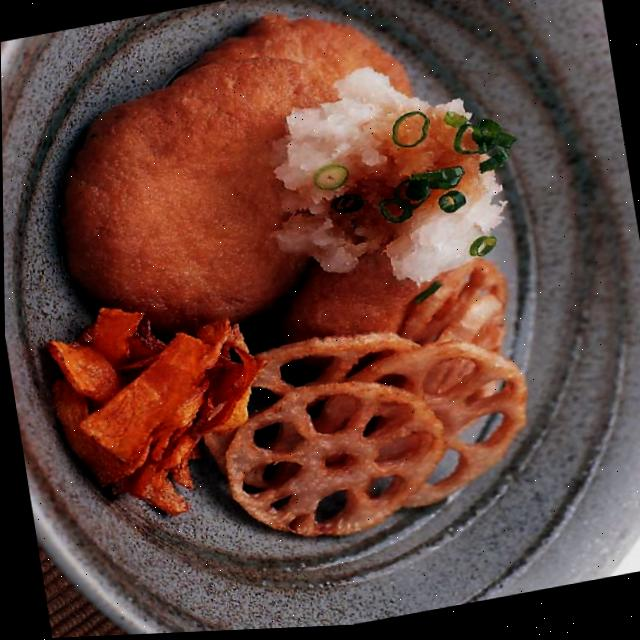熟制海鲜: (33, 0, 561, 486)
